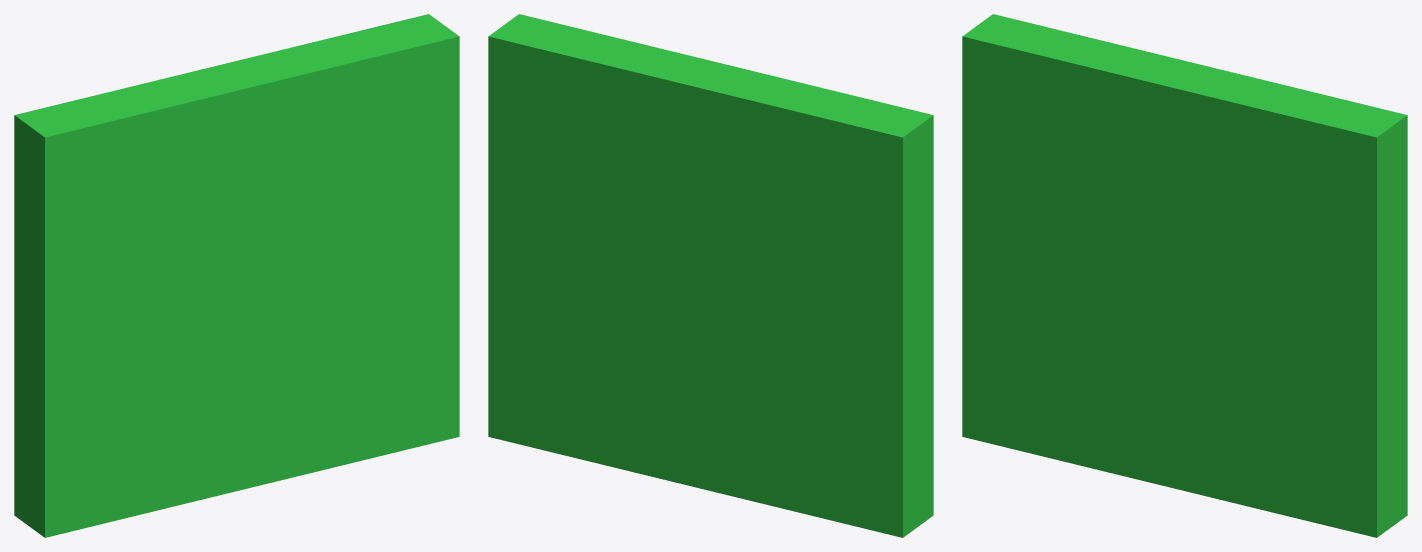
3 renders of one model, left to right at view 1: azimuth 30°, elevation 25°; view 2: azimuth 150°, elevation 25°; view 3: azimuth 330°, elevation 25°, orthographic.
Parts seen in each view (by area): view 1: green; view 2: green; view 3: green.
Boxes of the visible parts, x1,y1,x2,y2 form: green: [14, 14, 459, 537]; green: [488, 14, 933, 537]; green: [962, 14, 1407, 537].
Bounding box in the file's own units: 0.78 × 0.72 × 0.1.
1 material, 1 textured.
